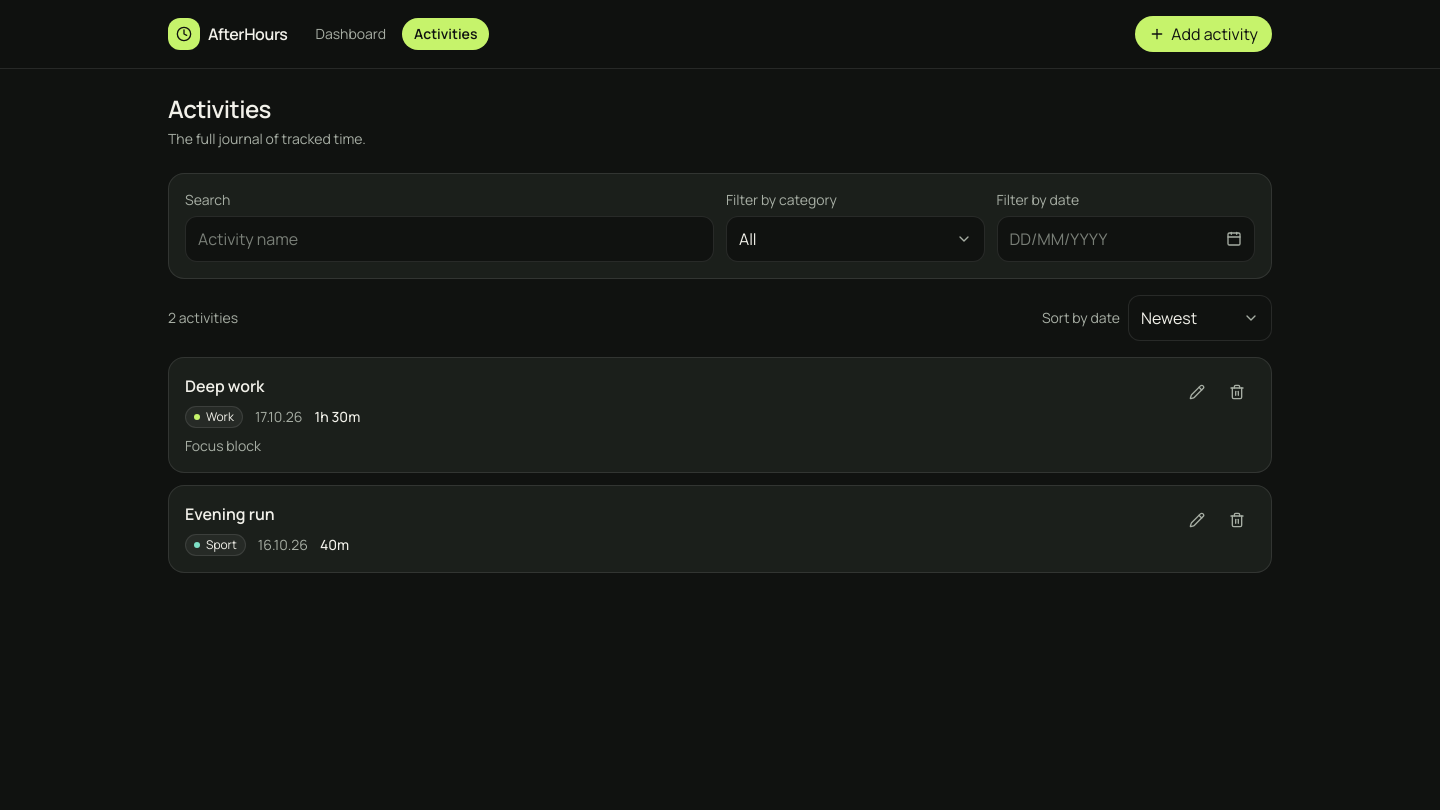
AfterHours › edits and deletes an activity
Click the button named "Edit Deep work". click: (1197, 392)
box: [1179,374,1215,410]
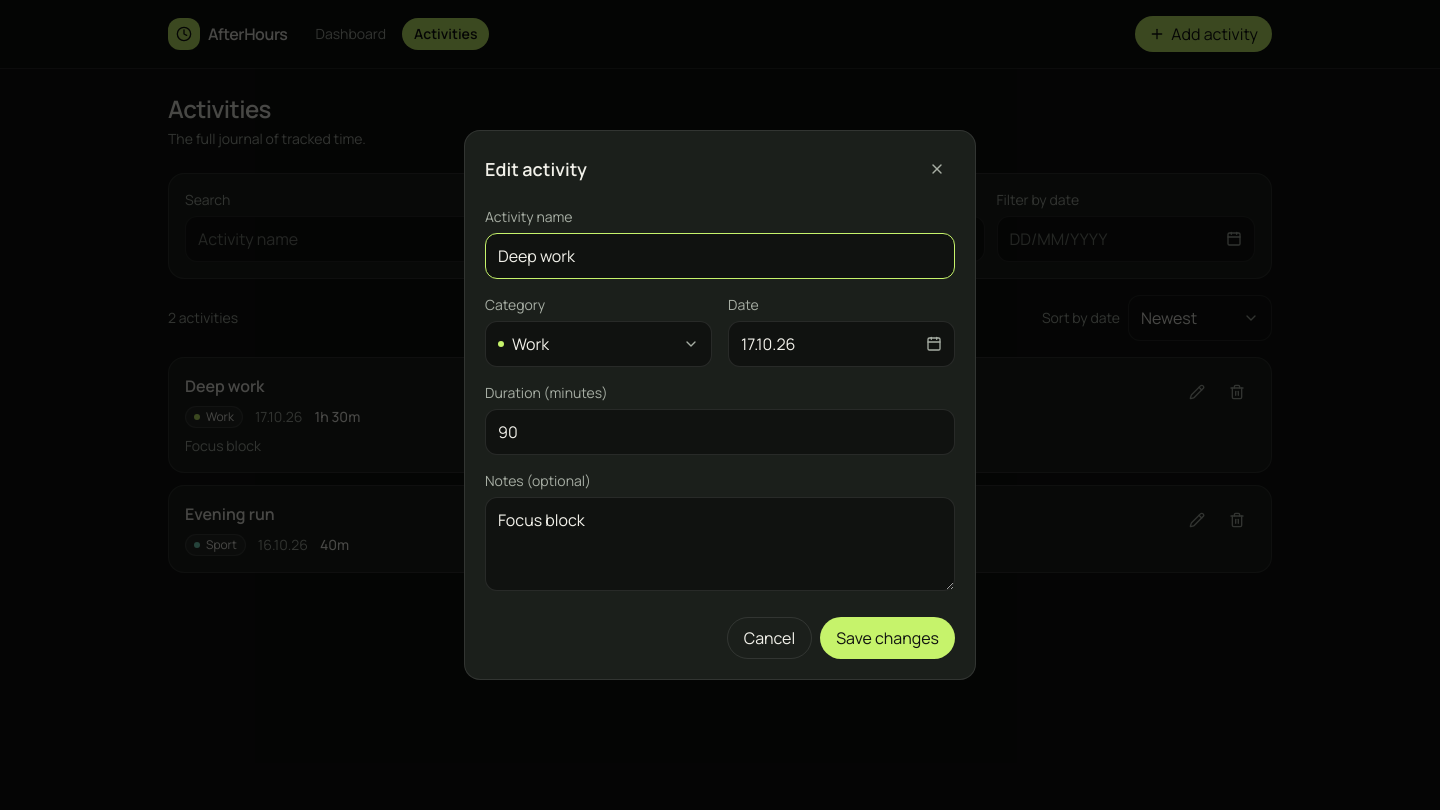
Replace the text in the field labelled "Activity name" with "Shallow work". click: (720, 256)
box: [485,233,955,279]
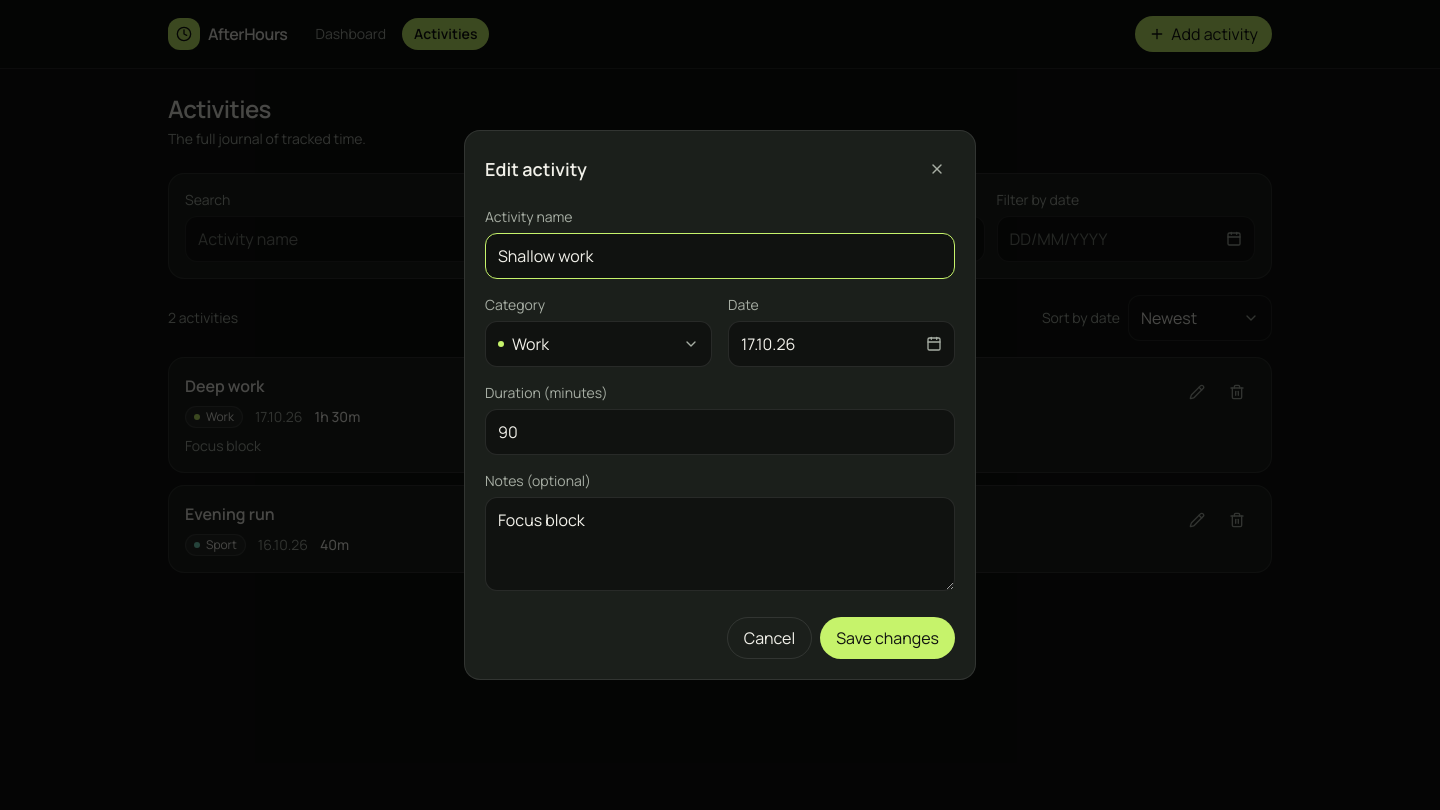
Click the button "Save changes". click: (888, 638)
box: [820,617,955,659]
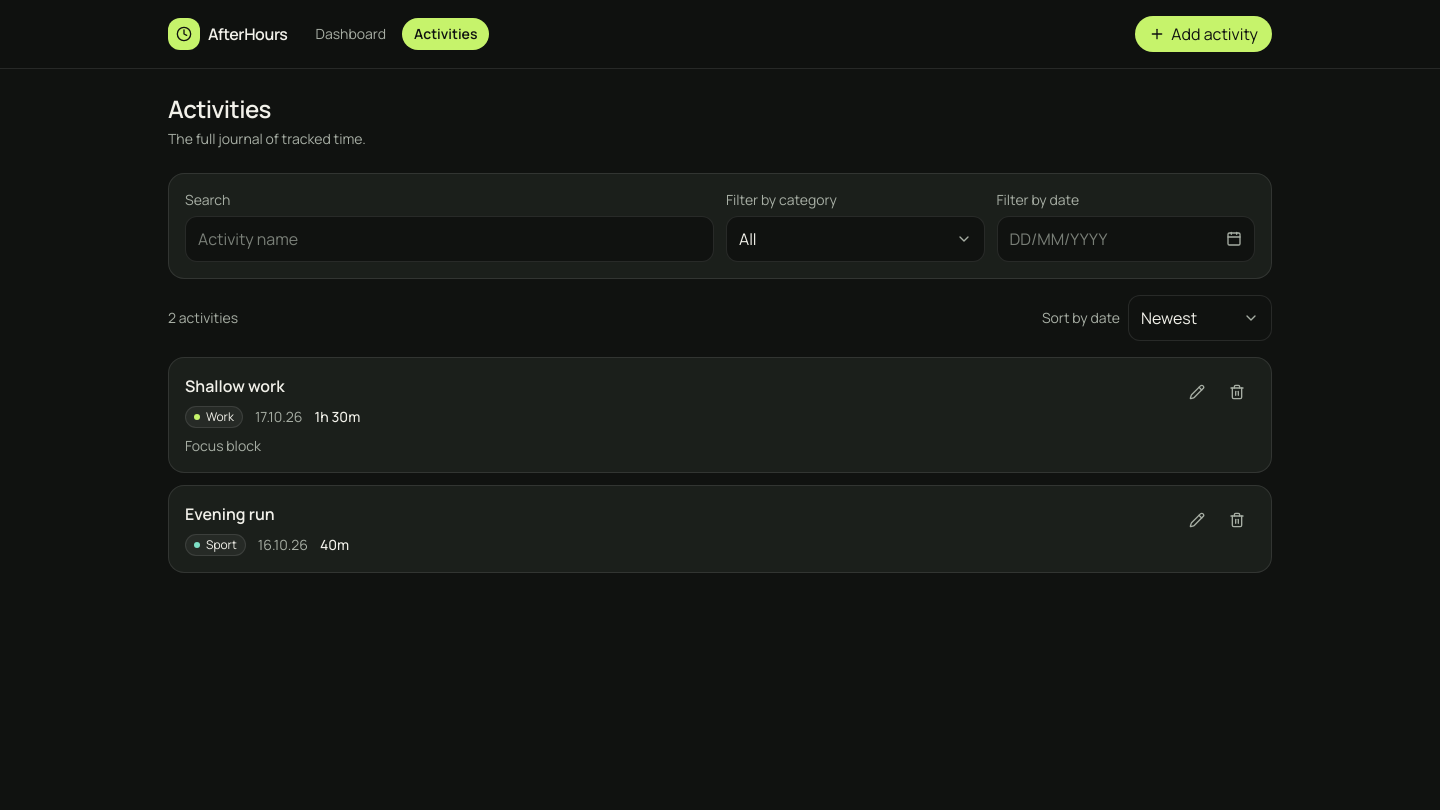
Expected: the heading "Shallow work" is shown, [185,375,285,397]
Click the button named "Delete Evening run". click: (1237, 520)
box: [1219,502,1255,538]
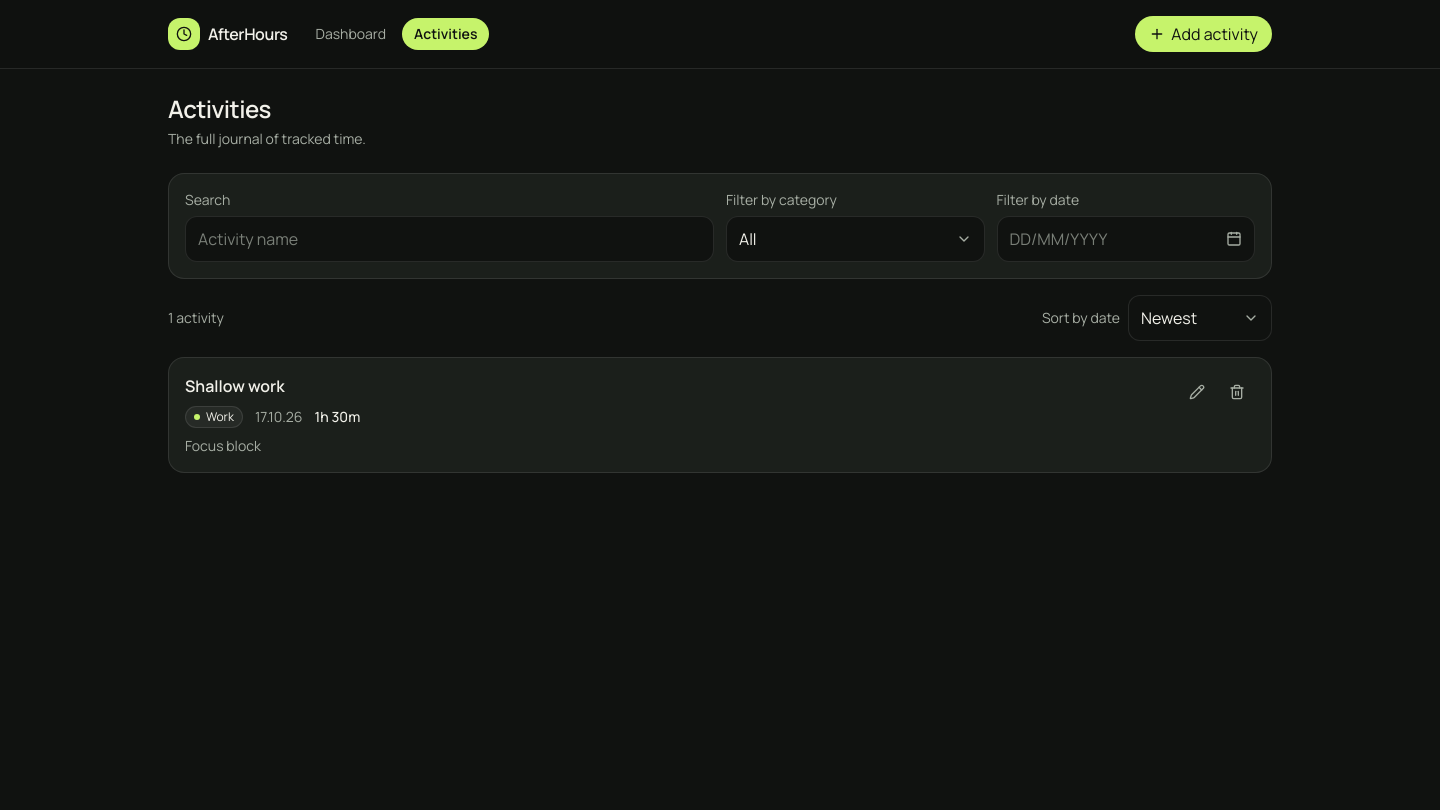
Expected: the heading "Evening run" is gone
